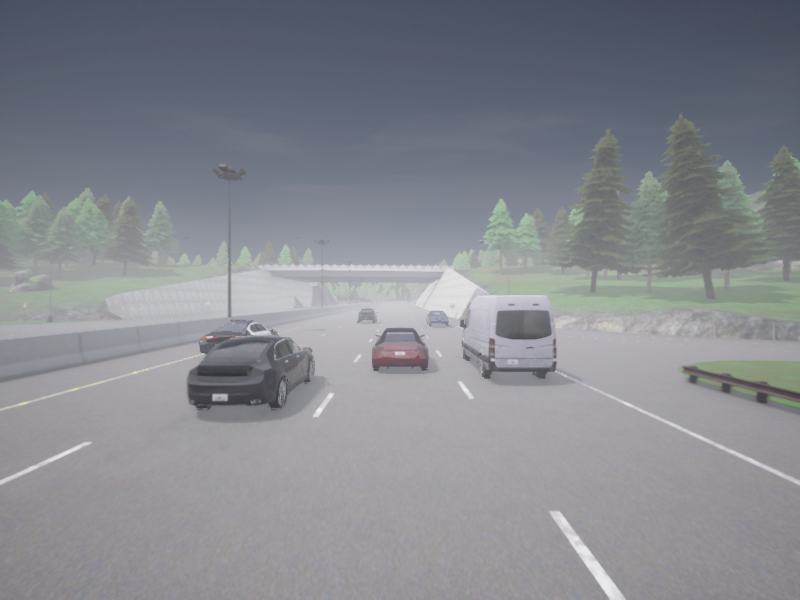vehicle: (187, 335, 313, 408), (460, 295, 556, 377), (198, 320, 277, 355), (372, 327, 428, 369), (426, 311, 448, 325), (358, 308, 378, 322)
